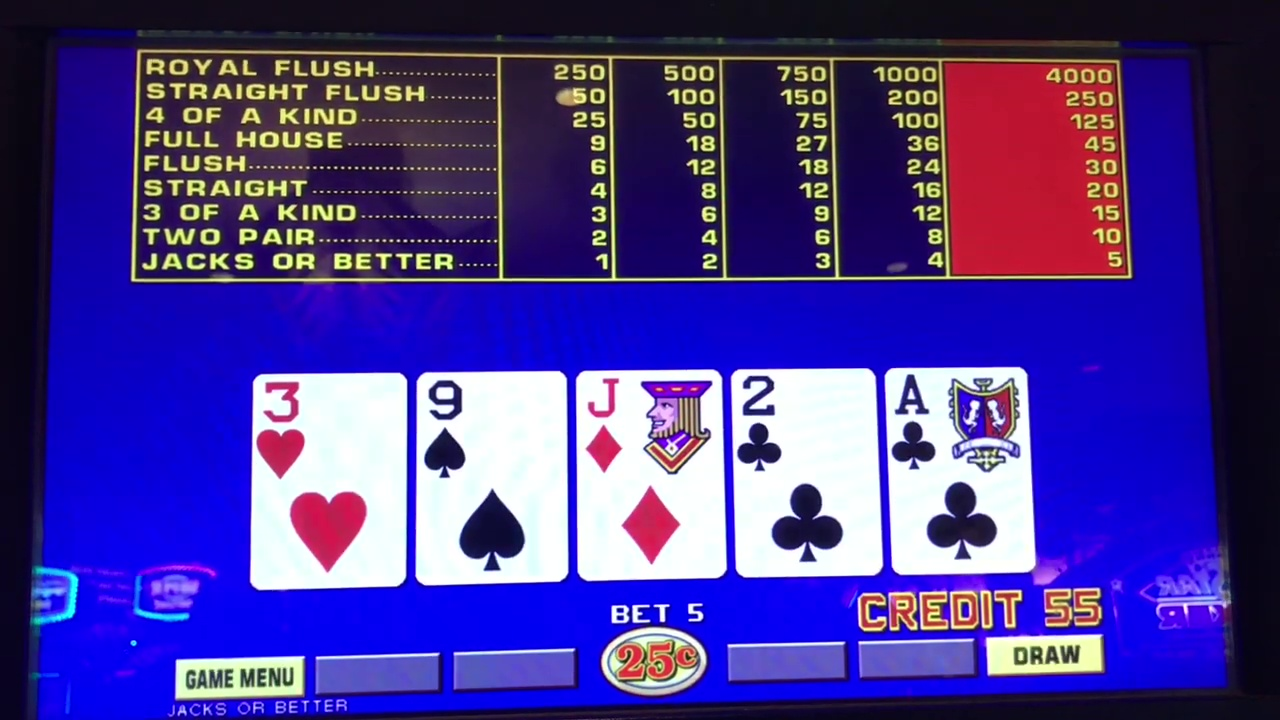C2: (735, 369, 878, 479)
CA: (893, 368, 1027, 480)
DJ: (582, 373, 717, 486)
H3: (254, 377, 401, 490)
S9: (419, 374, 565, 487)
